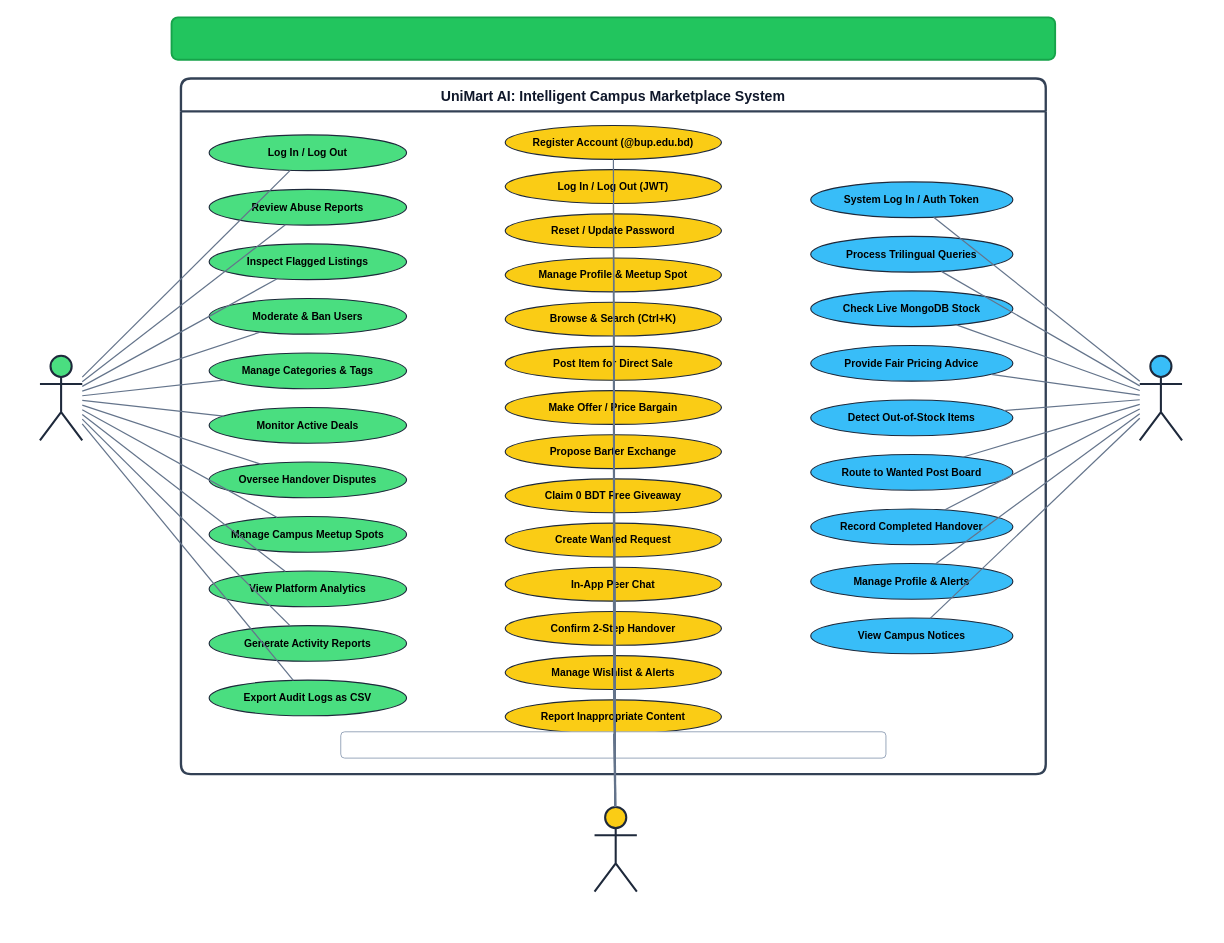
Image size: 1224x943. Some labels were removed from this diagram. Here are the shapes that lost their labels. From the top down, the centre of each, then its label:
At point 613,38: "USE CASE DIAGRAM — UNIMART AI: INTELLIGENT CAMPUS MARKETPLACE SYSTEM".
At point 60,397: "Platform Admin (Moderator)".
At point 1160,397: "AI Assistant (Gemini Engine)".
At point 613,744: "Legend: Actor = User Role • Oval = System Function • Line = Association".
At point 615,848: "Verified Student (Buyer & Seller)".
